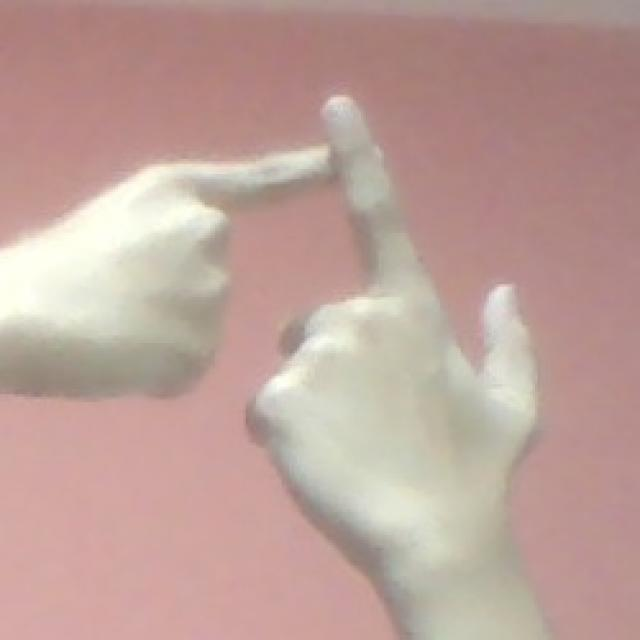Alphabet-J: (34, 88, 548, 568)
